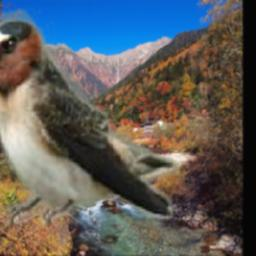Swallow: (0, 9, 180, 231)
